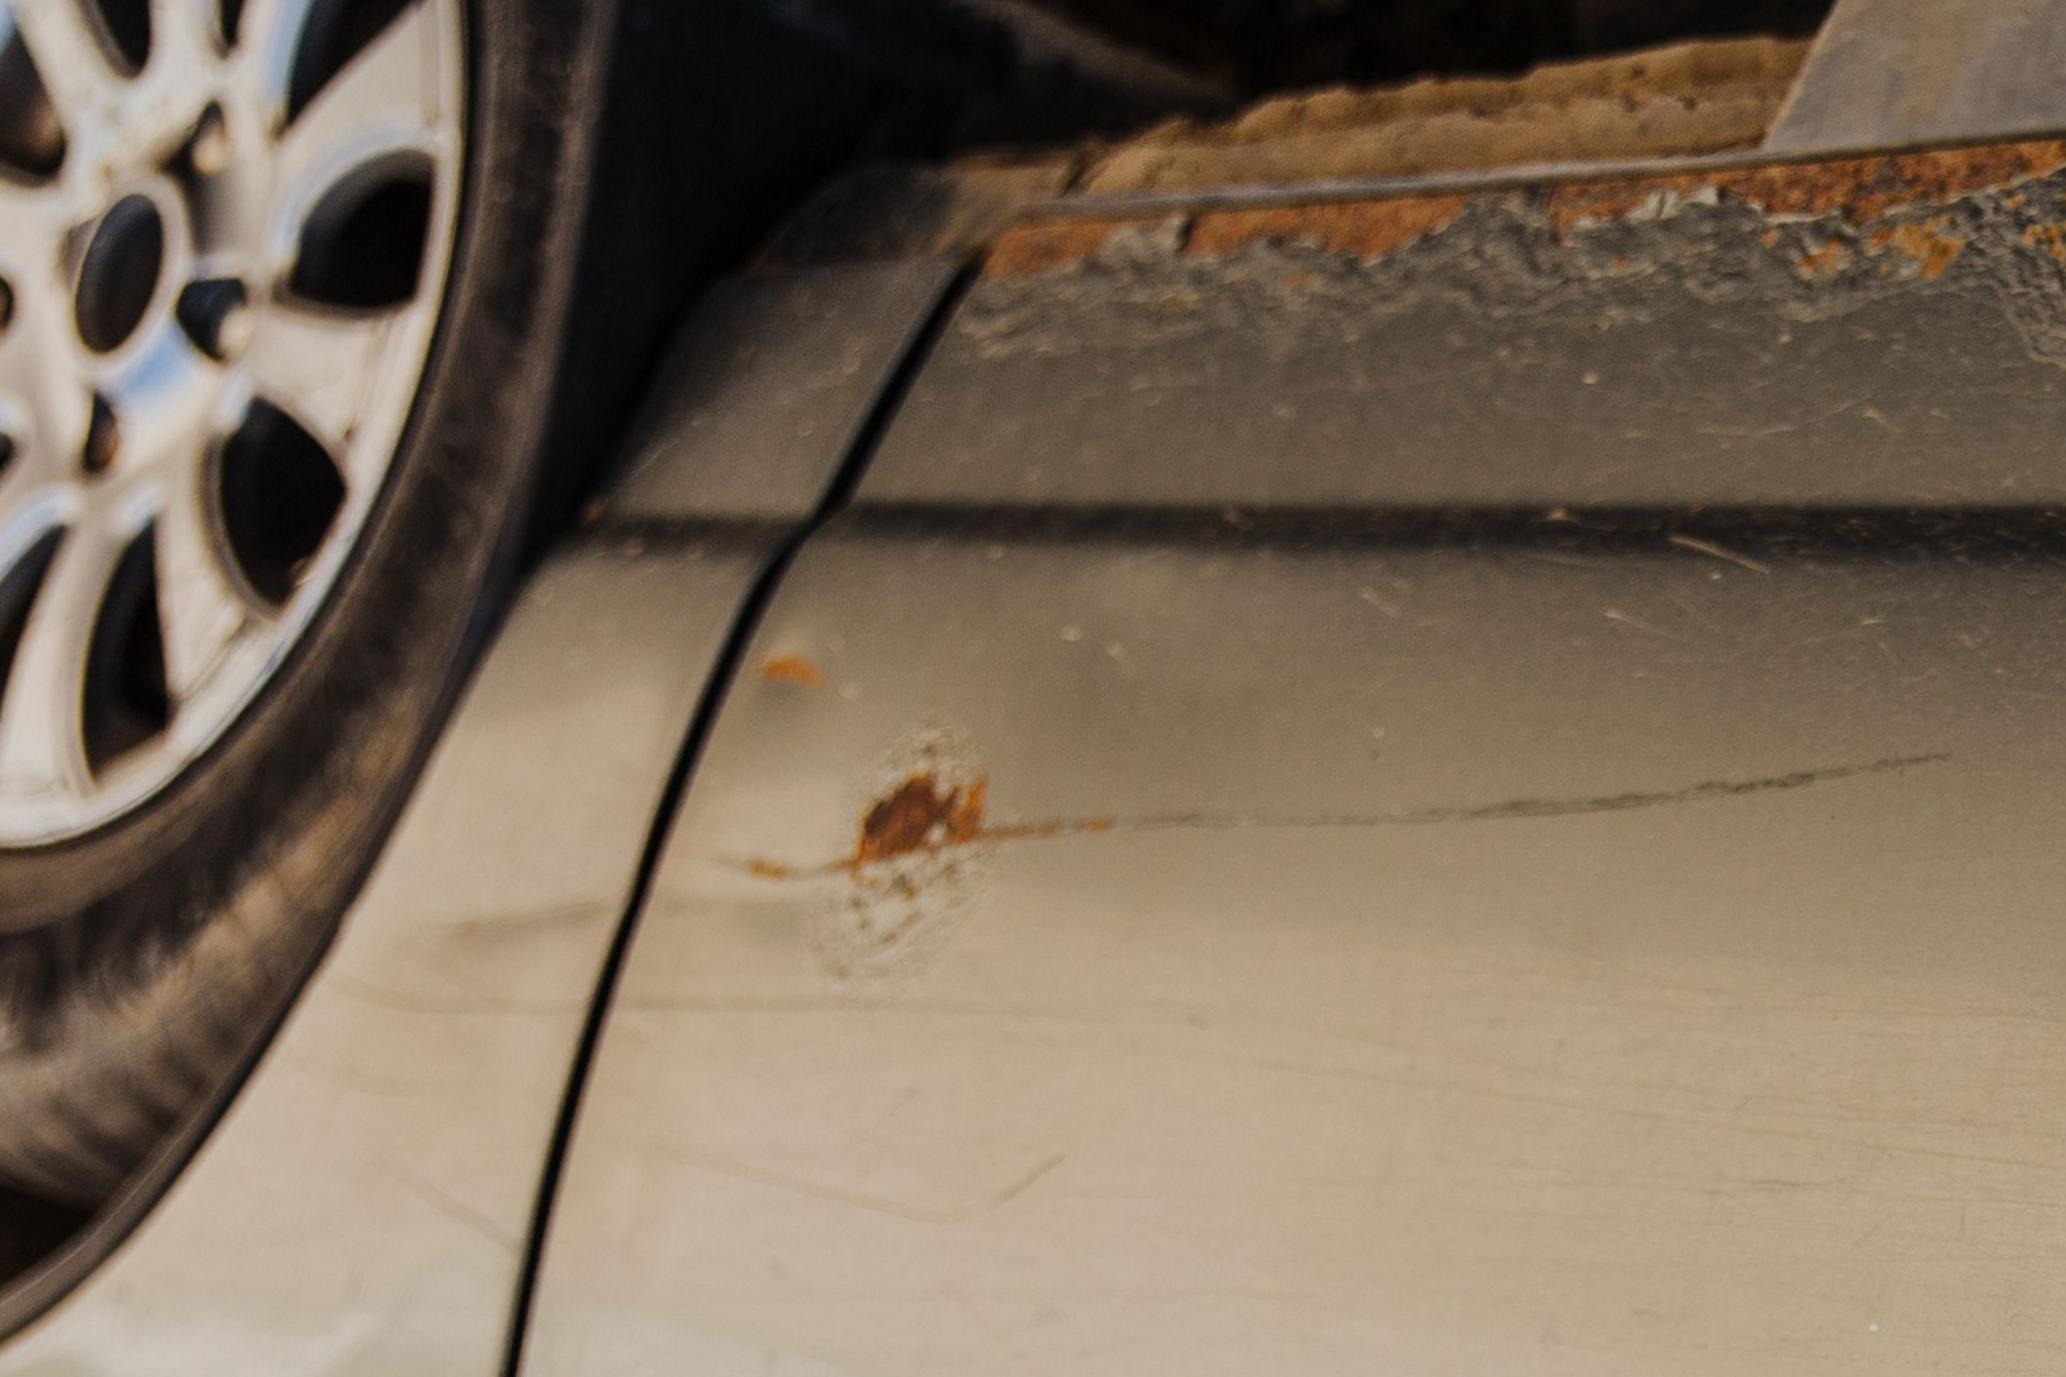rust: (1535, 129, 2066, 277), (819, 767, 1049, 937), (985, 214, 1482, 284), (753, 649, 872, 715)
